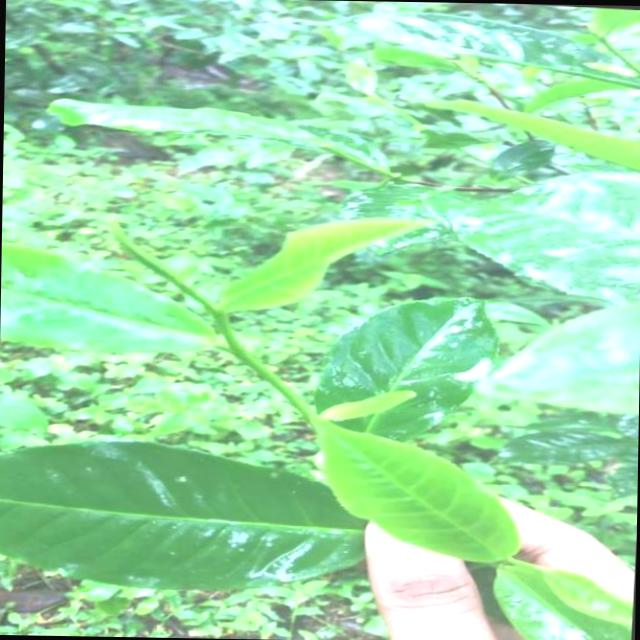Stem: (214, 318, 240, 346)
